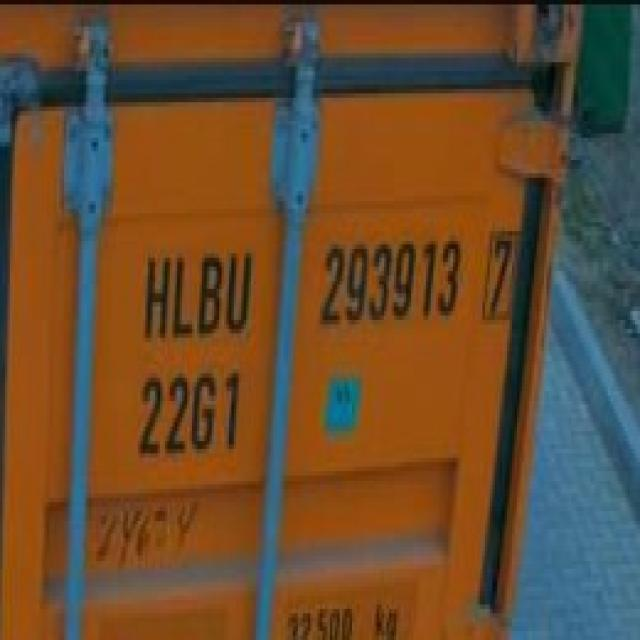dv: (482, 221, 520, 328)
owner: (138, 248, 256, 341)
serial: (318, 227, 463, 336)
size: (132, 360, 241, 457)
